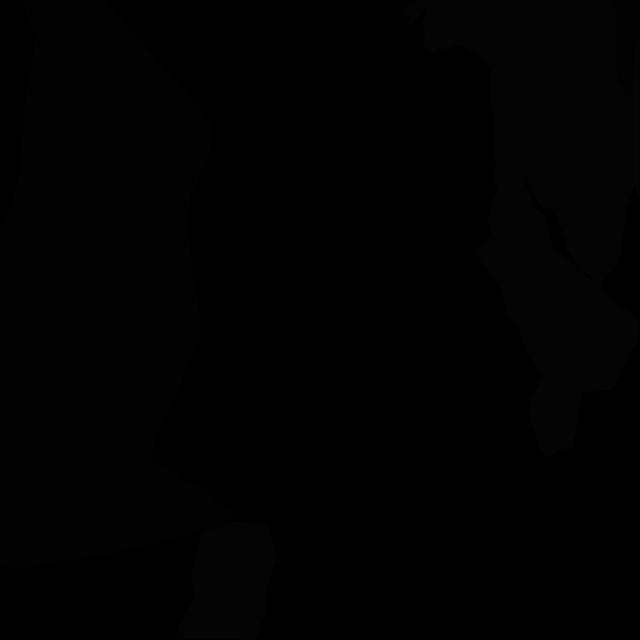cardboard: (0, 0, 232, 570), (612, 0, 640, 95)
soft_plastic: (400, 0, 640, 288), (474, 175, 640, 458), (174, 521, 278, 640)
